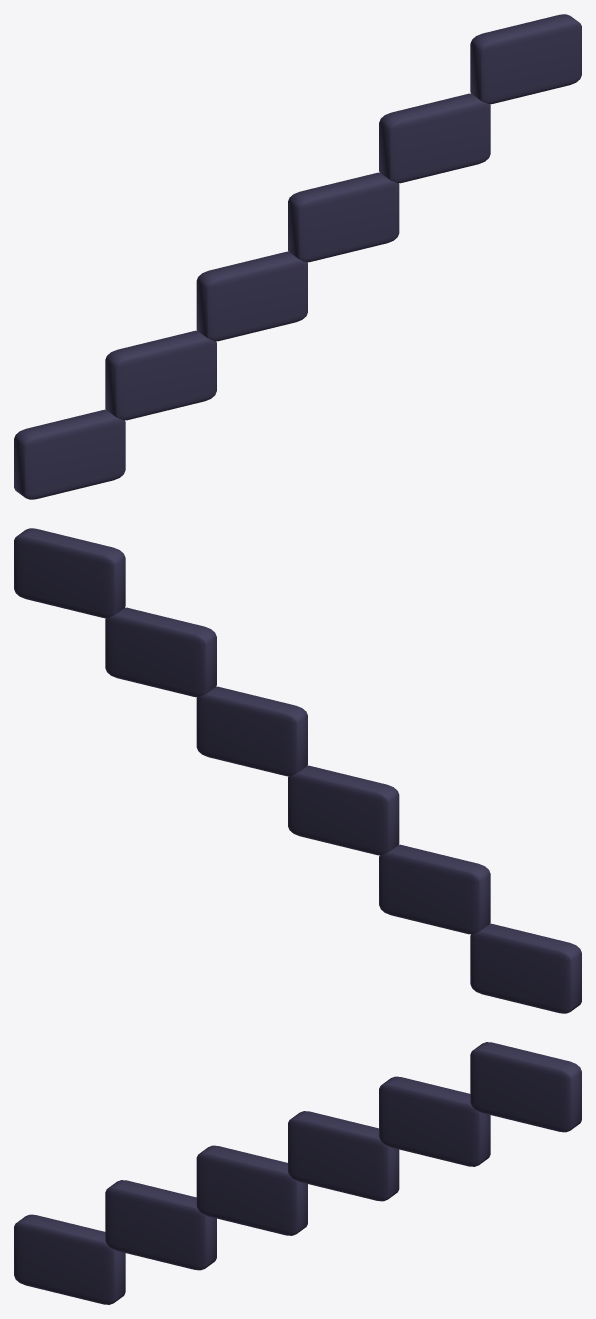
Rendered from seating.fbx.
3 views of the same model, one above another, from view 1: azimuth 30°, elevation 25°; view 2: azimuth 150°, elevation 25°; view 3: azimuth 330°, elevation 25° (orthographic).
Visible parts, largest first — view 1: seating; view 2: seating; view 3: seating.
Boxes of the visible parts, x1,y1,x2,y2 form: seating: (14,14,581,499); seating: (14,528,581,1013); seating: (14,1042,581,1304).
Size of the model in its own units: 816 by 485 by 33.52.
